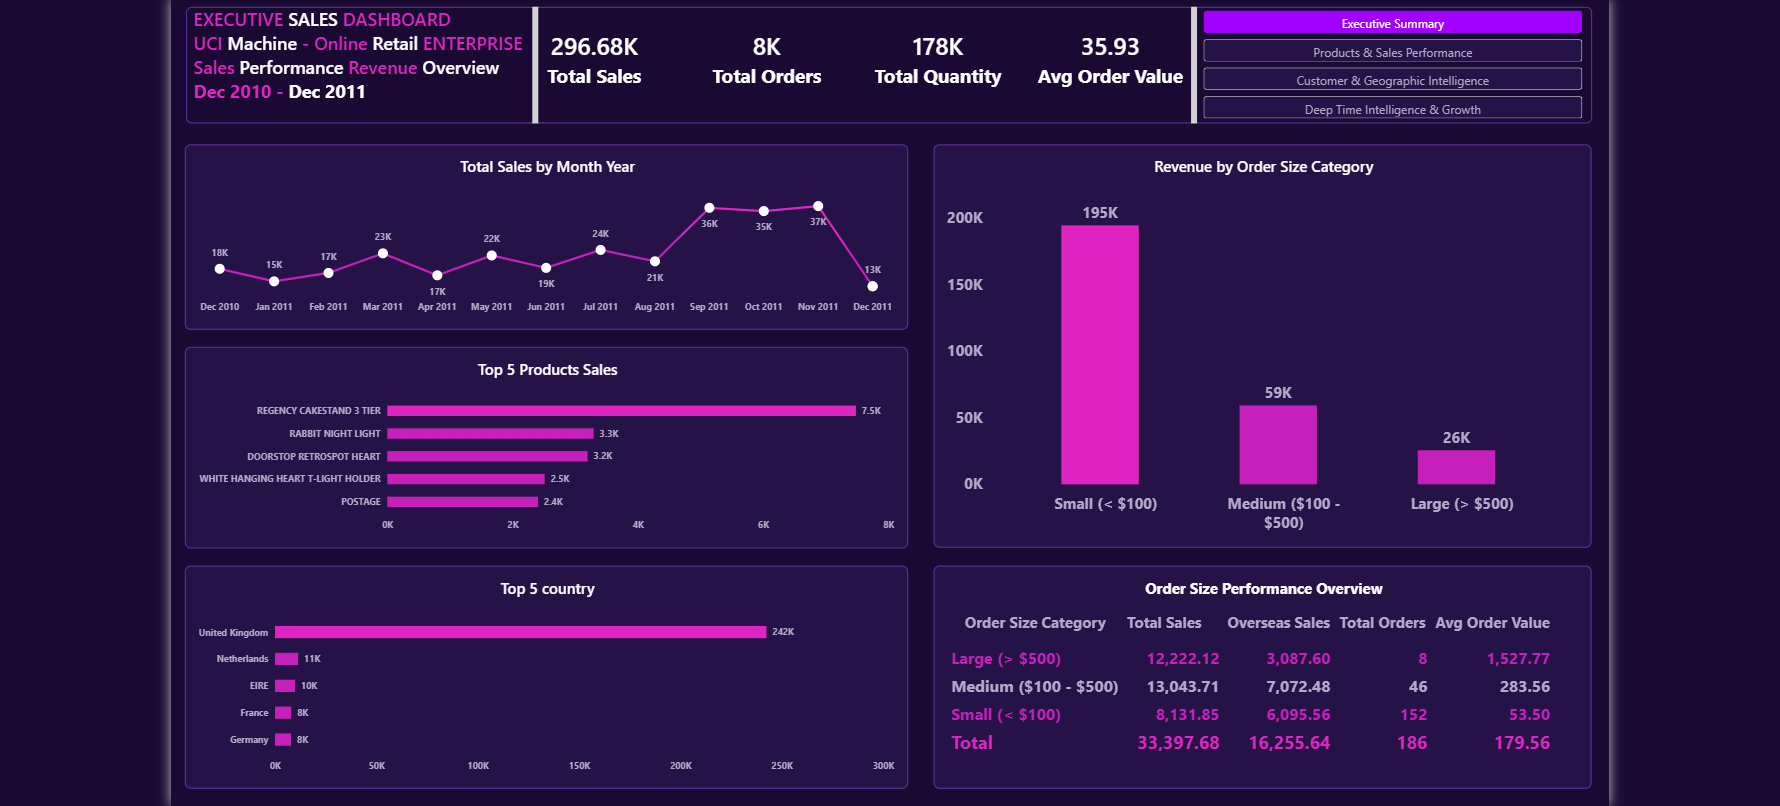

The dashboard page shown, as its layout file describes it:
{"tool":"powerbi","page":{"name":"Executive Summary","canvas":[1920,1080],"ordinal":0},"visuals":[{"type":"shape","box":[20.3,11.9,1878.3,155.8],"z":0},{"type":"textbox","box":[310,930,300,150],"z":1000},{"type":"textbox","box":[1402.4,50.8,13.5,32.2],"z":2000},{"type":"textbox","box":[30.5,11.9,445.5,155.8],"z":3000},{"type":"lineChart","fields":{"Y":["_Measures.Total Sales"],"Category":["Dim_Calendar.Month Year"]},"box":[18.1,195.4,966.4,247.9],"z":4000},{"type":"cardVisual","fields":{"Data":["_Measures.Total Sales"]},"box":[440.8,33.4,249.7,97.7],"z":5000},{"type":"cardVisual","fields":{"Data":["_Measures.Total Orders"]},"box":[670.7,33.4,249.7,97.7],"z":6000},{"type":"cardVisual","fields":{"Data":["_Measures.Total Quantity"]},"box":[900.6,33.4,249.7,97.7],"z":7000},{"type":"cardVisual","fields":{"Data":["_Measures.Avg Order Value"]},"box":[1130.4,33.4,249.7,97.7],"z":8000},{"type":"shape","box":[1255.7,11.7,221.9,155.8],"z":9000},{"type":"pageNavigator","box":[1378.7,16.9,506.4,147.4],"z":10000},{"type":"clusteredBarChart","fields":{"Y":["_Measures.Total Sales"],"Category":["Dataset.Description"]},"box":[18.1,465.1,966.4,269.6],"z":11000},{"type":"shape","box":[375.7,11.7,221.9,155.8],"z":12000},{"type":"clusteredColumnChart","fields":{"Y":["_Measures.Total Sales"],"Category":["Dataset.Order Size Category"]},"box":[1018.8,195.4,879.5,539.3],"z":13000},{"type":"clusteredBarChart","fields":{"Category":["Dataset.Country"],"Y":["_Measures.Total Sales"]},"box":[18.1,758.2,966.4,298.6],"z":14000},{"type":"tableEx","title":"Order Size Performance Overview","fields":{"Values":["Dataset.Order Size Category","_Measures.Total Sales","_Measures.Overseas Sales","_Measures.Total Orders","_Measures.Avg Order Value"]},"box":[1018.8,758.2,879.5,298.6],"z":15000}]}

Visuals, with their boxes on the page's 1920x1080 design canvas (x1, y1, x2, y2). These are canvas units, not pixel positions in the 1780x806 screenshot, which may show the page scaled, cropped or inside an application window:
shape: [x1=20, y1=12, x2=1899, y2=168]
textbox: [x1=310, y1=930, x2=610, y2=1080]
textbox: [x1=1402, y1=51, x2=1416, y2=83]
textbox: [x1=30, y1=12, x2=476, y2=168]
lineChart - _Measures.Total Sales x Dim_Calendar.Month Year: [x1=18, y1=195, x2=984, y2=443]
cardVisual - _Measures.Total Sales: [x1=441, y1=33, x2=690, y2=131]
cardVisual - _Measures.Total Orders: [x1=671, y1=33, x2=920, y2=131]
cardVisual - _Measures.Total Quantity: [x1=901, y1=33, x2=1150, y2=131]
cardVisual - _Measures.Avg Order Value: [x1=1130, y1=33, x2=1380, y2=131]
shape: [x1=1256, y1=12, x2=1478, y2=168]
pageNavigator: [x1=1379, y1=17, x2=1885, y2=164]
clusteredBarChart - _Measures.Total Sales x Dataset.Description: [x1=18, y1=465, x2=984, y2=735]
shape: [x1=376, y1=12, x2=598, y2=168]
clusteredColumnChart - _Measures.Total Sales x Dataset.Order Size Category: [x1=1019, y1=195, x2=1898, y2=735]
clusteredBarChart - Dataset.Country x _Measures.Total Sales: [x1=18, y1=758, x2=984, y2=1057]
"Order Size Performance Overview" tableEx: [x1=1019, y1=758, x2=1898, y2=1057]
